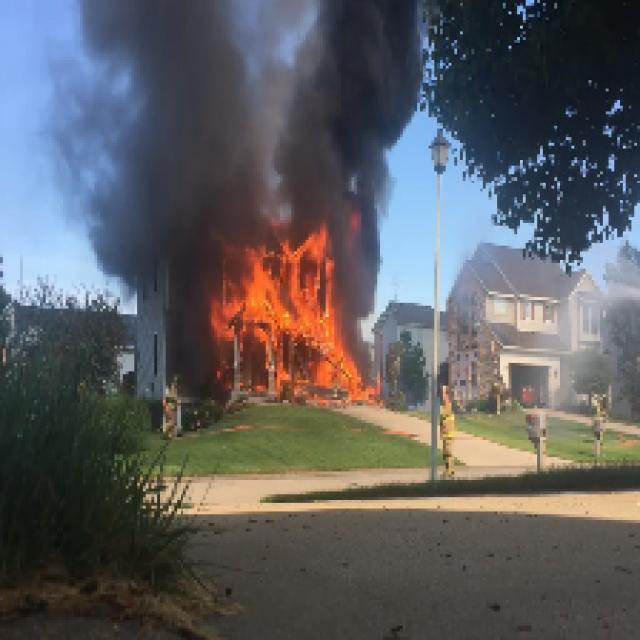Fire: (291, 223, 340, 383), (211, 242, 283, 334)
Smoke: (34, 2, 269, 232), (274, 3, 423, 206), (83, 237, 200, 297)
